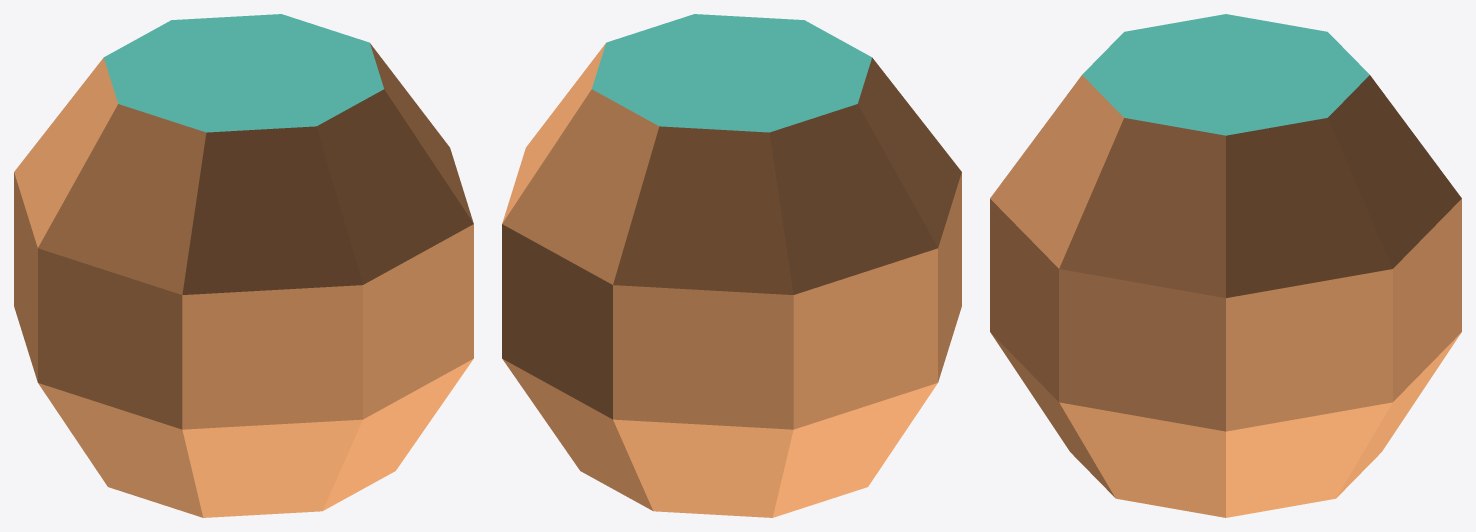
The model's file is rock_small8.obj.
The picture shows the model from 3 angles, left to right: view 1: azimuth 30°, elevation 25°; view 2: azimuth 150°, elevation 25°; view 3: azimuth 270°, elevation 25°; orthographic projection.
Visible parts, largest first — view 1: rock_small8; view 2: rock_small8; view 3: rock_small8.
Boxes of the visible parts, x1,y1,x2,y2 form: rock_small8: [14, 14, 473, 517]; rock_small8: [502, 14, 961, 517]; rock_small8: [990, 14, 1461, 517].
Bounding box in the file's own units: 4.62 × 4.07 × 4.62.
